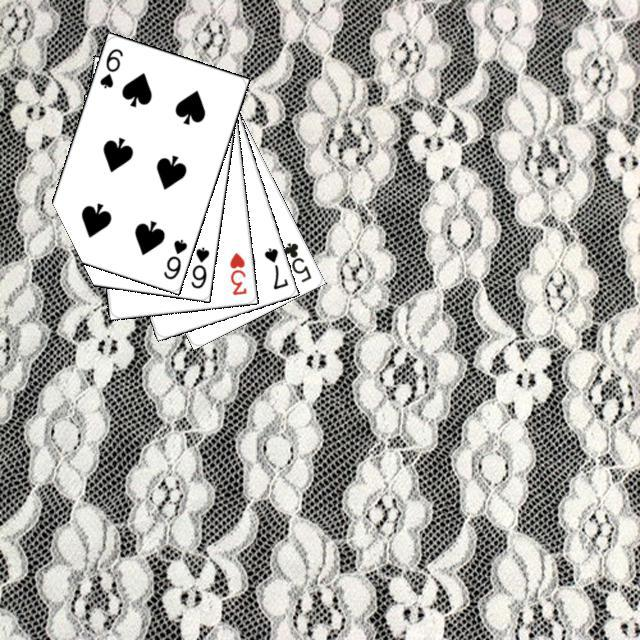3h: (225, 247, 248, 297)
5c: (279, 237, 313, 284)
6s: (159, 234, 189, 281), (95, 43, 125, 90), (186, 242, 211, 290)
7s: (259, 243, 290, 291)
